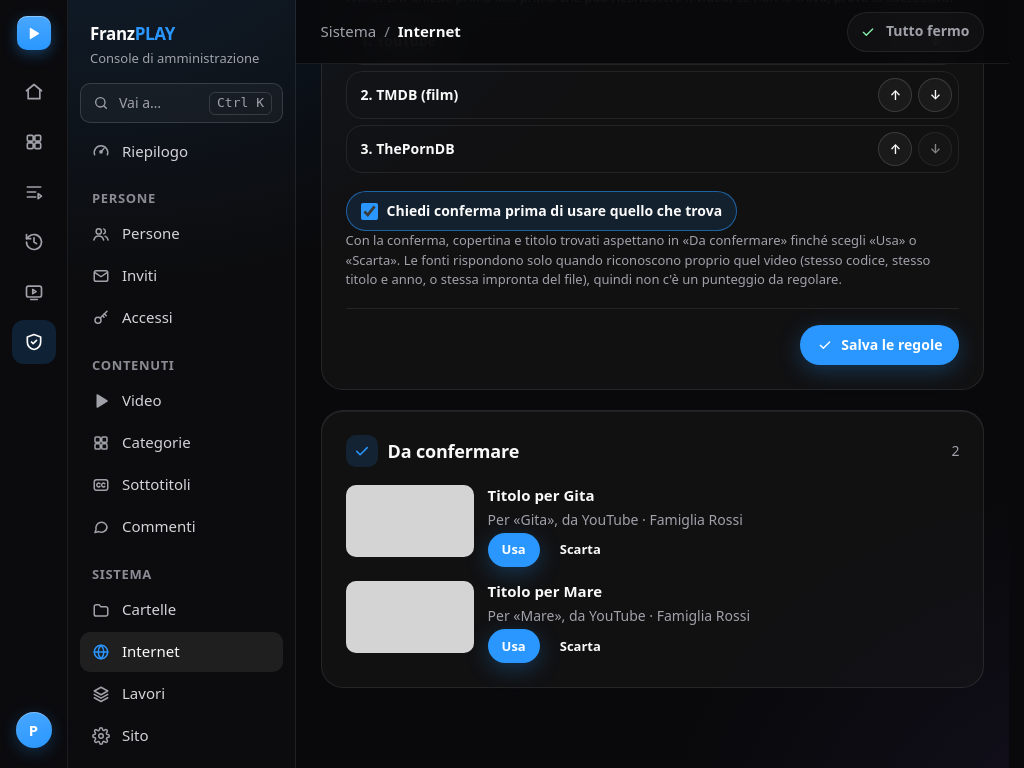
confirming what the internet found › uses one proposal and throws another away
(page scrolled)
Expected: the list item that starts with "Titolo per Gita" is shown, x1=488 y1=485 x2=594 y2=505
Expected: the list item that starts with "Titolo per Gita" shows "Per «Gita», da YouTube · Famiglia Rossi", x1=346 y1=485 x2=743 y2=567
What coordinates should you click on to do the following:
click the button with aria-label "Usa la proposta per Gita"
I would click on:
 (514, 550)
Its box is x1=488 y1=533 x2=540 y2=567.
(page scrolled)
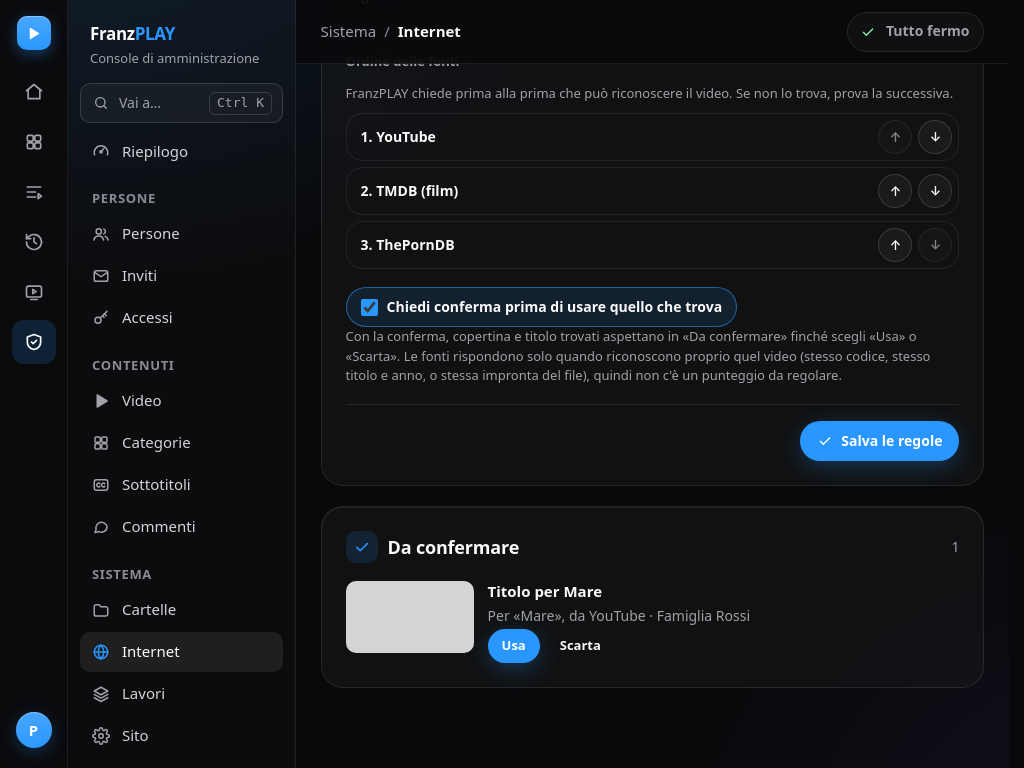
Expected: the text "Titolo per Gita" is gone
What coordinates should you click on to do the following:
click the button with aria-label "Scarta la proposta per Mare"
I would click on:
 (580, 646)
Its box is x1=546 y1=629 x2=615 y2=663.
(page scrolled)
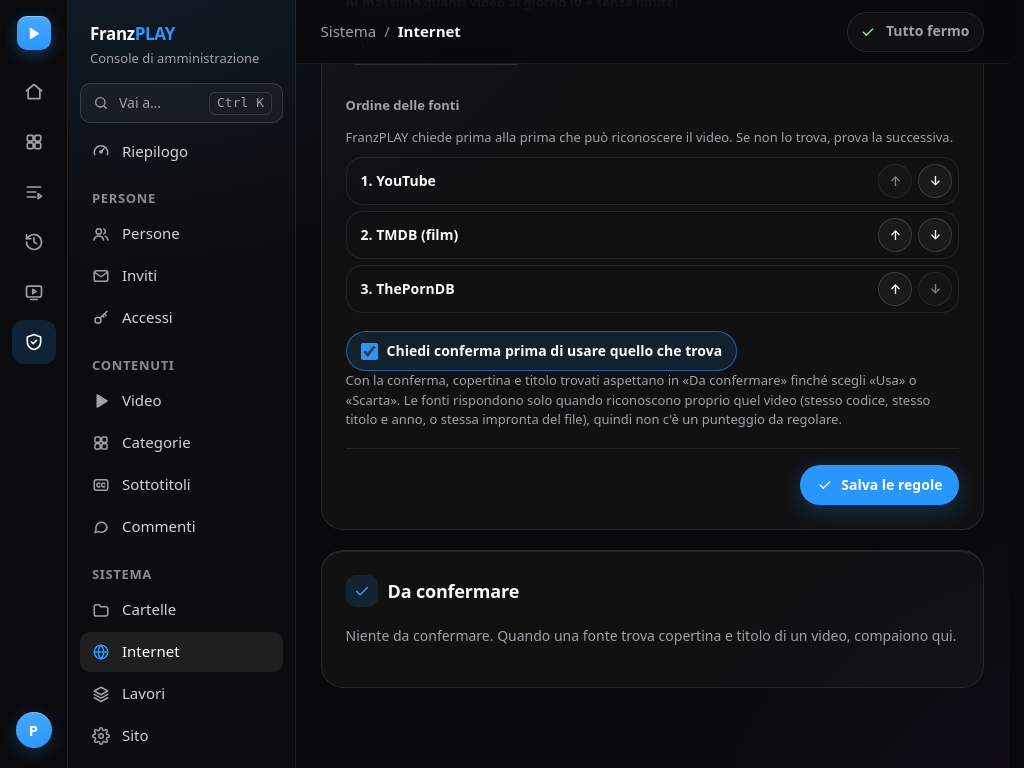
Expected: the text "Niente da confermare" is shown, x1=346 y1=626 x2=956 y2=645
